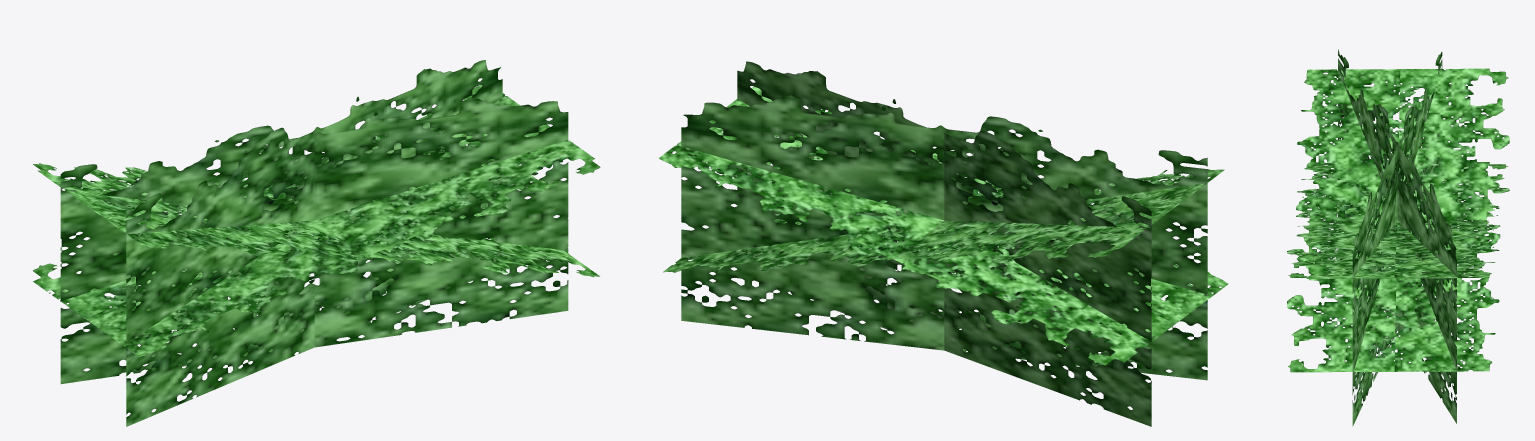
Rendered from bush_long_full_overgrown_spring.fbx.
The picture shows the model from 3 angles, left to right: view 1: azimuth 30°, elevation 25°; view 2: azimuth 150°, elevation 25°; view 3: azimuth 270°, elevation 25°; orthographic projection. The views are drawn at different scales.
Parts seen in each view (by area): view 1: bush_long_full_overgrown_spring; view 2: bush_long_full_overgrown_spring; view 3: bush_long_full_overgrown_spring.
Part boxes in pixels (x1,y1,x2,y2): bush_long_full_overgrown_spring: [33, 60, 600, 426]; bush_long_full_overgrown_spring: [658, 61, 1228, 426]; bush_long_full_overgrown_spring: [1287, 49, 1509, 426].
Size of the model in its own units: 200 by 106 by 108.
1 material, 1 textured.
